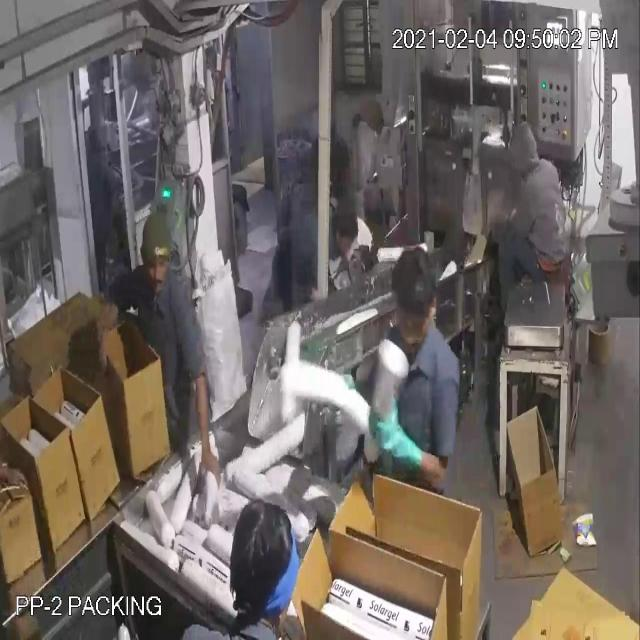gloves: (364, 388, 426, 488)
no-gloves: (180, 356, 222, 506)
